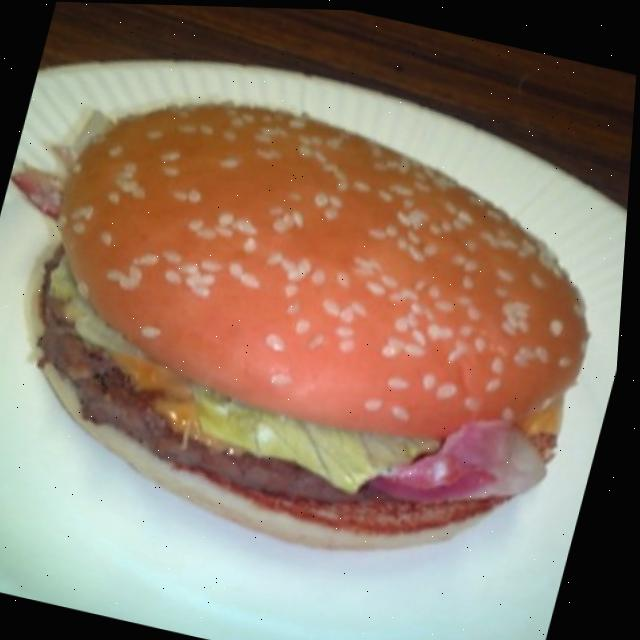汉堡快餐: (0, 62, 637, 585)
